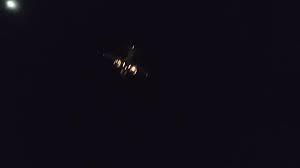Plane: (100, 38, 160, 85)
